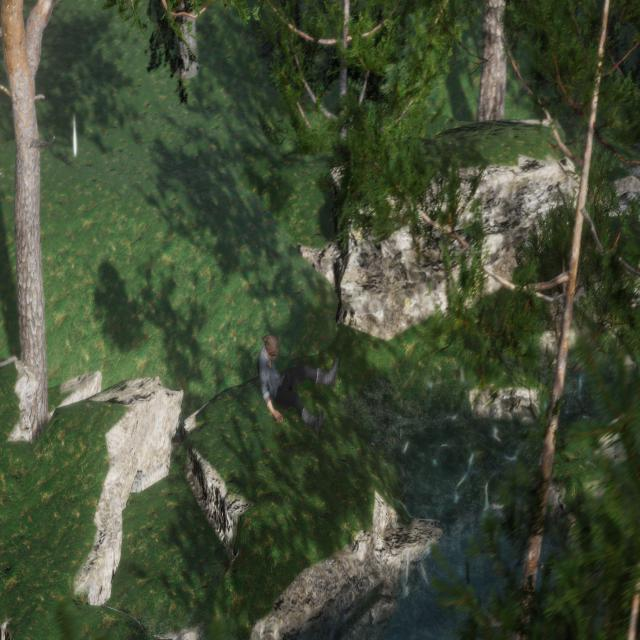Human: (253, 324, 338, 441)
